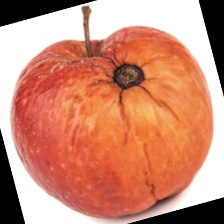apple: (18, 33, 179, 179)
